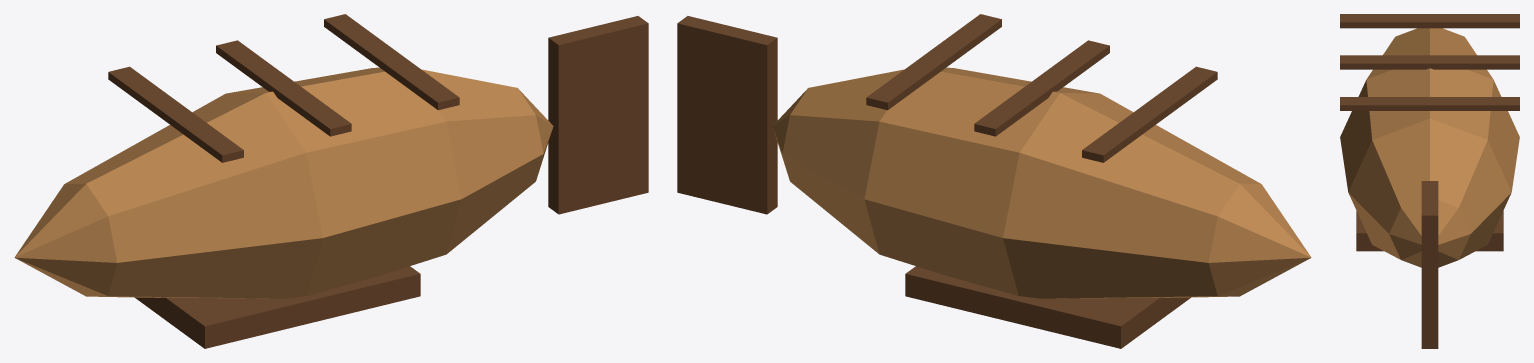
File: cooked-fish.glb
The picture shows the model from 3 angles, left to right: view 1: azimuth 30°, elevation 25°; view 2: azimuth 150°, elevation 25°; view 3: azimuth 270°, elevation 25°; orthographic projection. The views are drawn at different scales.
Parts seen in each view (by area): view 1: cooked-fish; view 2: cooked-fish; view 3: cooked-fish.
Part boxes in pixels (x1,y1,x2,y2): cooked-fish: (14, 14, 648, 348); cooked-fish: (677, 14, 1311, 348); cooked-fish: (1340, 14, 1519, 348).
Bounding box in the file's own units: 0.35 × 0.112 × 0.11.
